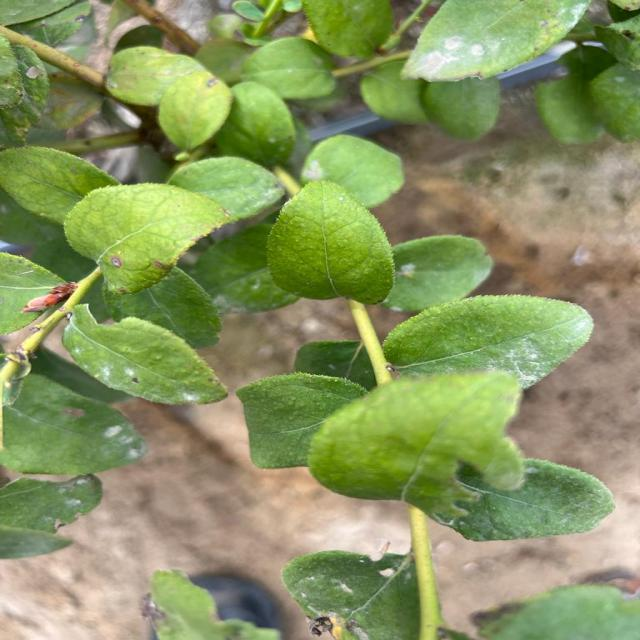Hojas con oidiosis: (373, 291, 597, 391), (58, 299, 232, 407), (264, 177, 394, 305)
